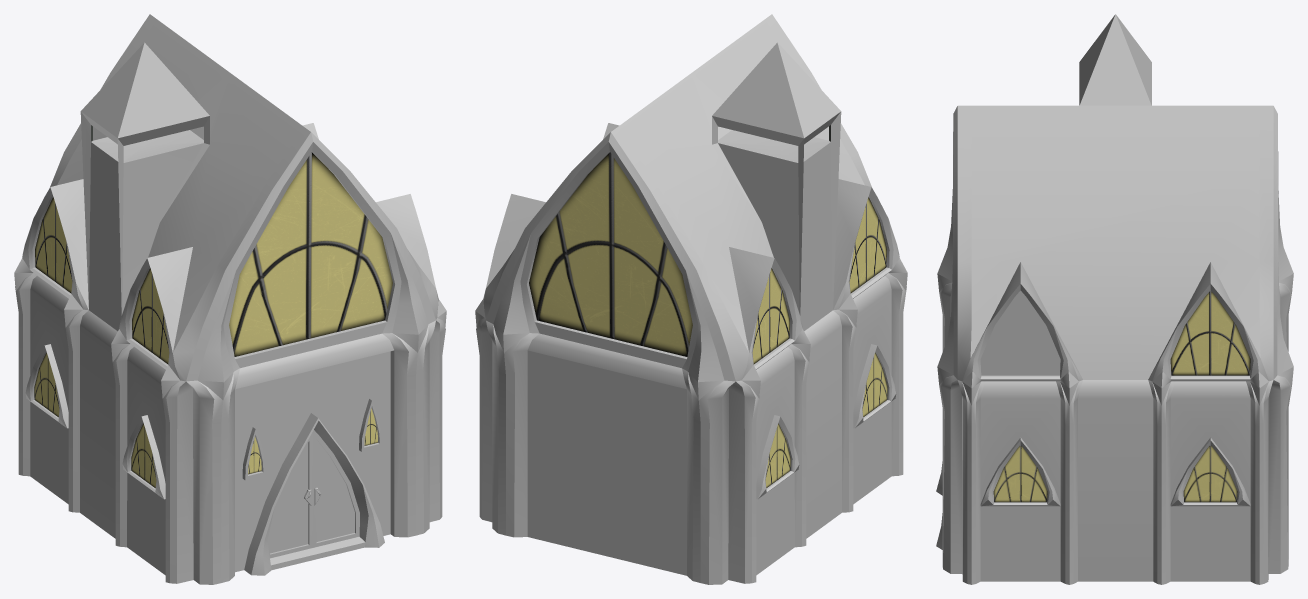
File: ruraltown_house_small_01.fbx
The picture shows the model from 3 angles, left to right: view 1: azimuth 30°, elevation 25°; view 2: azimuth 150°, elevation 25°; view 3: azimuth 270°, elevation 25°; orthographic projection. The views are drawn at different scales.
Visible parts, largest first — view 1: ruraltown_house_small; view 2: ruraltown_house_small; view 3: ruraltown_house_small.
Part boxes in pixels (x1,y1,x2,y2): ruraltown_house_small: (14,14,446,584); ruraltown_house_small: (475,14,907,584); ruraltown_house_small: (936,14,1293,584).
Size of the model in its own units: 5.89 by 9.32 by 6.52.
